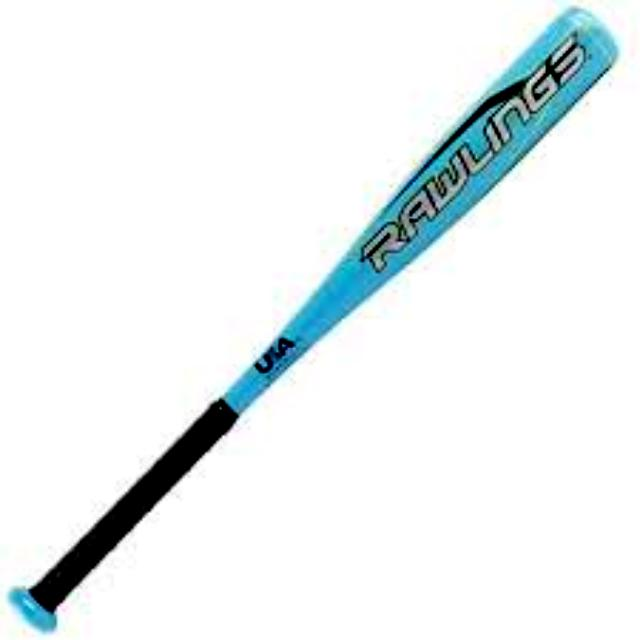baseball bat: (6, 7, 638, 640)
